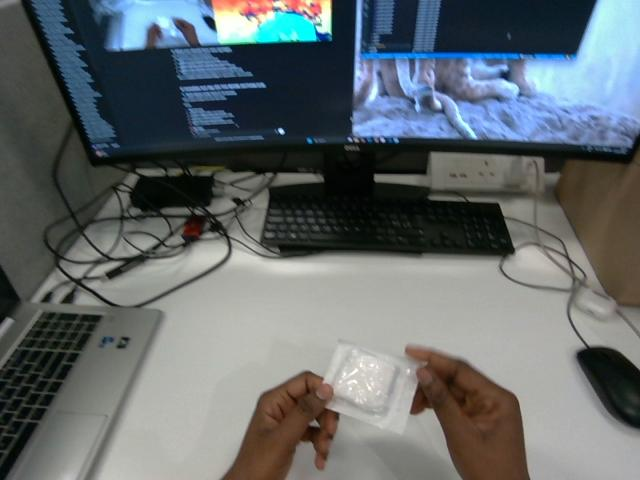gauze: (324, 341, 419, 433)
